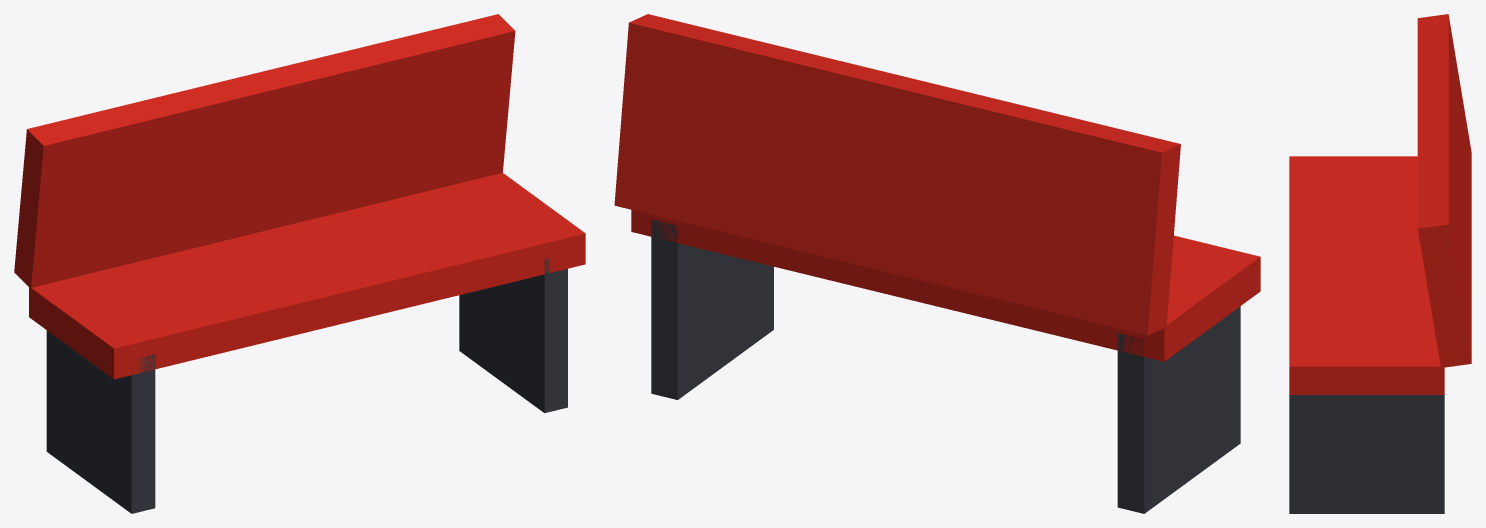
Rendered from park_bench.glb.
3 views of the same model, side by side, from view 1: azimuth 30°, elevation 25°; view 2: azimuth 150°, elevation 25°; view 3: azimuth 270°, elevation 25° (orthographic). The views are drawn at different scales.
Visible parts, largest first — view 1: park_bench; view 2: park_bench; view 3: park_bench.
Part boxes in pixels (bbox=[...]): park_bench: bbox=[14, 14, 585, 513]; park_bench: bbox=[614, 14, 1260, 513]; park_bench: bbox=[1289, 14, 1471, 513].
Size of the model in its own units: 1.6 by 1.05 by 0.5868.
